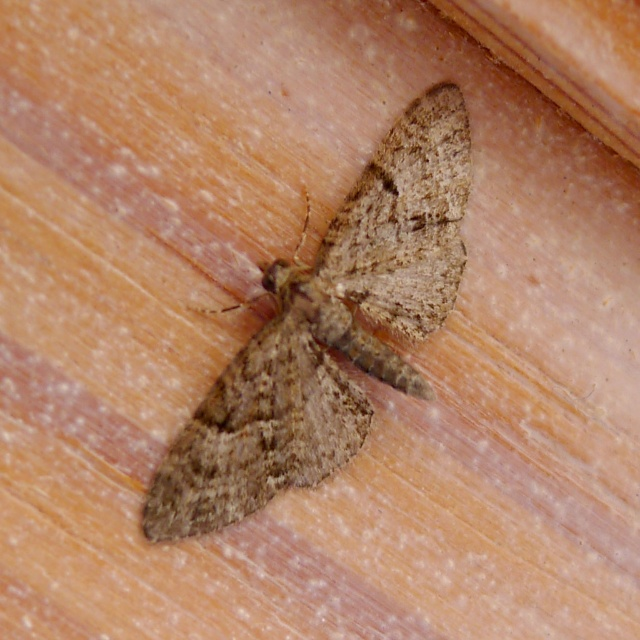Moths and butterflies: (135, 81, 474, 545)
